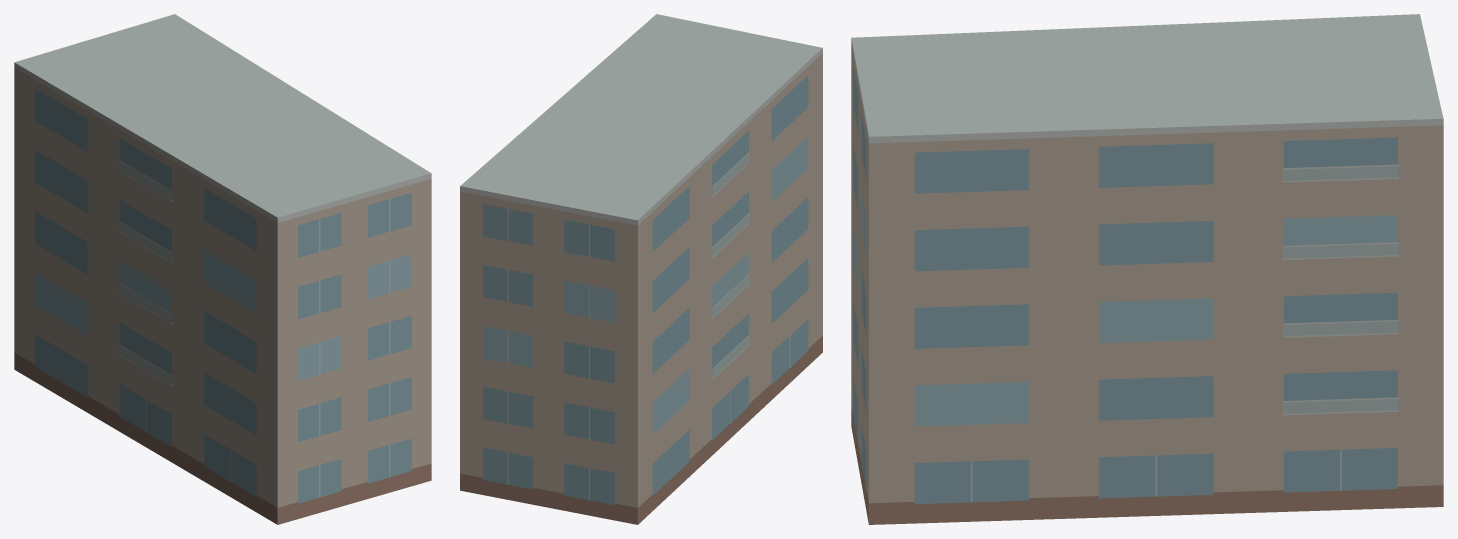
File: survey-upis-32531836.glb
3 views of the same model, side by side, from view 1: azimuth 30°, elevation 25°; view 2: azimuth 150°, elevation 25°; view 3: azimuth 270°, elevation 25° (orthographic). The views are drawn at different scales.
Parts seen in each view (by area): view 1: survey-upis-32531836.tmp; view 2: survey-upis-32531836.tmp; view 3: survey-upis-32531836.tmp.
Part boxes in pixels (<box>): survey-upis-32531836.tmp: <box>14,14,431,524</box>; survey-upis-32531836.tmp: <box>460,14,822,524</box>; survey-upis-32531836.tmp: <box>851,14,1443,524</box>.
Bounding box in the file's own units: 9.79 × 14.4 × 19.93.
